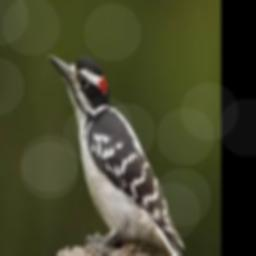Woodpecker: (49, 52, 188, 256)
